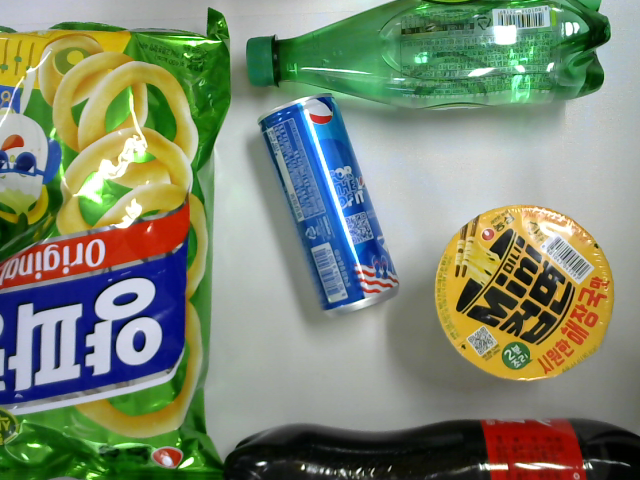Coca_Cola_1.5L: (226, 417, 640, 480)
Hejangmini: (434, 203, 619, 384)
Oninon_Ring: (1, 7, 233, 480)
Pepsi_Cola_Can_250ml: (257, 91, 402, 318)
Treviraim_500ml: (244, 1, 611, 111)
